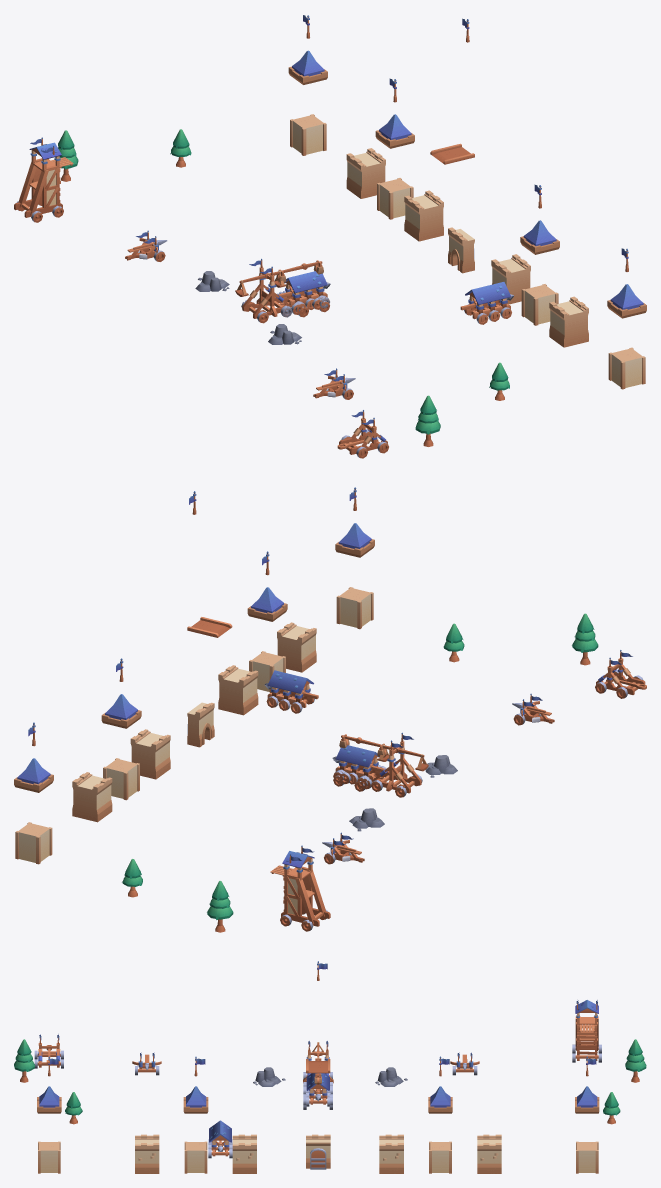
File: paired-animation.glb
3 views of the same model, one above another, from view 1: azimuth 30°, elevation 25°; view 2: azimuth 150°, elevation 25°; view 3: azimuth 270°, elevation 25° (orthographic). The views are drawn at different scales.
Visible parts, largest first — view 1: veh_siege_tower, wall.002, wall.001, wall.003, tower-square-mid.001, wall, tower-square-mid.003, veh_trebuchet, tower-square-mid, tower-square-mid.002, veh_ram, ram.001 (+7 smaller); view 2: veh_siege_tower, wall, wall.003, wall.002, wall.001, tower-square-mid.001, tower-square-mid.003, veh_trebuchet, tower-square-mid.002, veh_ram, ram.001, wall-doorway (+8 smaller); view 3: veh_siege_tower, wall.001, wall.002, wall.003, wall, tower-square-mid, tower-square-mid.003, tower-square-mid.001, tower-square-mid.002, veh_ram, wall-doorway, ram.001 (+13 smaller).
Part boxes in pixels (<box>): veh_siege_tower: <box>14,137,73,217</box>; wall.002: <box>404,190,443,241</box>; wall.001: <box>549,296,588,347</box>; wall.003: <box>346,148,385,198</box>; tower-square-mid.001: <box>608,347,645,389</box>; wall: <box>491,254,530,304</box>; tower-square-mid.003: <box>290,114,326,155</box>; veh_trebuchet: <box>242,258,291,318</box>; tower-square-mid: <box>521,284,558,325</box>; tower-square-mid.002: <box>377,178,413,219</box>; veh_ram: <box>465,282,510,319</box>; ram.001: <box>282,271,327,306</box>; veh_siege_tower: <box>270,845,330,926</box>; wall: <box>218,665,258,715</box>; wall.003: <box>72,772,112,822</box>; wall.002: <box>130,729,170,779</box>; wall.001: <box>277,622,316,672</box>; tower-square-mid.001: <box>336,587,373,629</box>; tower-square-mid.003: <box>15,822,52,864</box>; veh_trebuchet: <box>372,732,421,793</box>; tower-square-mid.002: <box>103,758,139,800</box>; veh_ram: <box>267,670,313,707</box>; ram.001: <box>335,745,380,781</box>; wall-doorway: <box>187,702,214,747</box>; veh_siege_tower: <box>575,1000,598,1060</box>; wall.001: <box>135,1134,159,1173</box>; wall.002: <box>379,1134,403,1173</box>; wall.003: <box>477,1134,501,1173</box>; wall: <box>232,1134,256,1173</box>; tower-square-mid: <box>184,1141,207,1173</box>; tower-square-mid.003: <box>576,1141,598,1173</box>; tower-square-mid.001: <box>38,1141,60,1173</box>; tower-square-mid.002: <box>429,1141,451,1173</box>; veh_ram: <box>209,1120,231,1156</box>; wall-doorway: <box>306,1134,330,1168</box>; ram.001: <box>306,1073,329,1104</box>.
Size of the model in its own units: 12 by 9.51 by 25.89.
53 materials, 53 textured.
